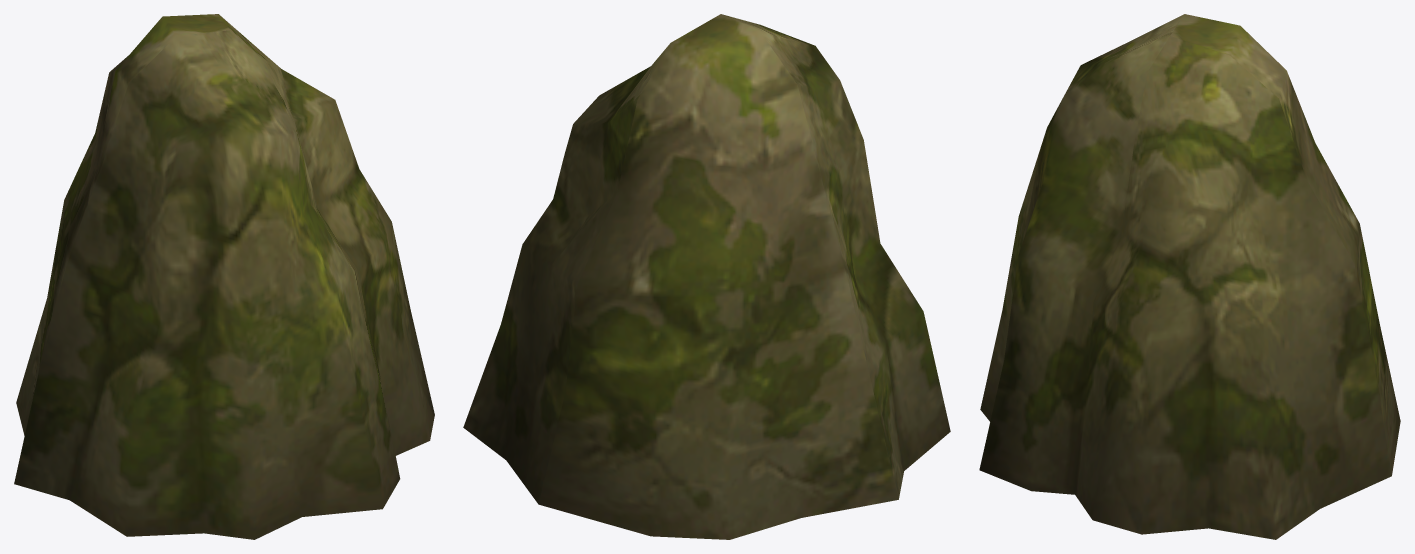
File: lumina_natural_rock_large01.FBX
3 renders of one model, left to right at view 1: azimuth 30°, elevation 25°; view 2: azimuth 150°, elevation 25°; view 3: azimuth 270°, elevation 25°, orthographic. The views are drawn at different scales.
Parts seen in each view (by area): view 1: lumina_natural_rock_large01; view 2: lumina_natural_rock_large01; view 3: lumina_natural_rock_large01.
Part boxes in pixels (bbox=[...]): lumina_natural_rock_large01: bbox=[14, 14, 434, 539]; lumina_natural_rock_large01: bbox=[463, 14, 950, 539]; lumina_natural_rock_large01: bbox=[979, 14, 1400, 539].
Bounding box in the file's own units: 3.76 × 3.79 × 3.54.
